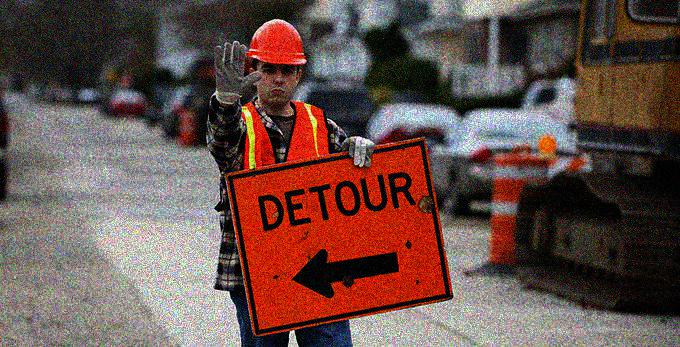helmet: (246, 18, 309, 105)
